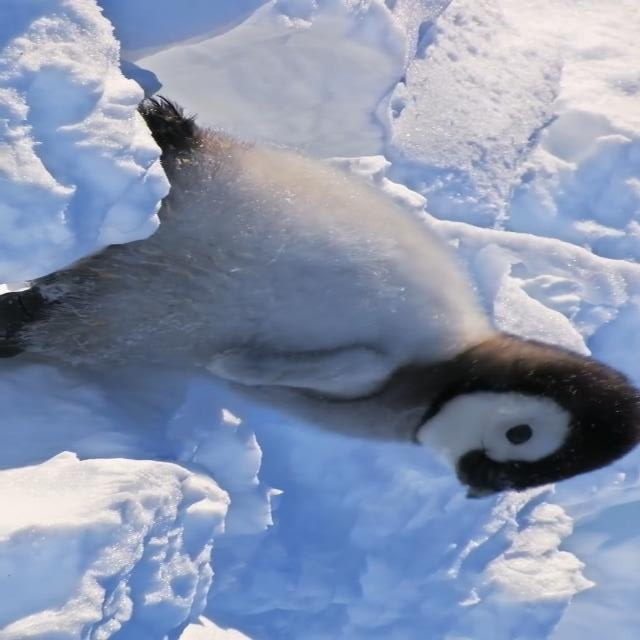penguin: (3, 93, 638, 504)
